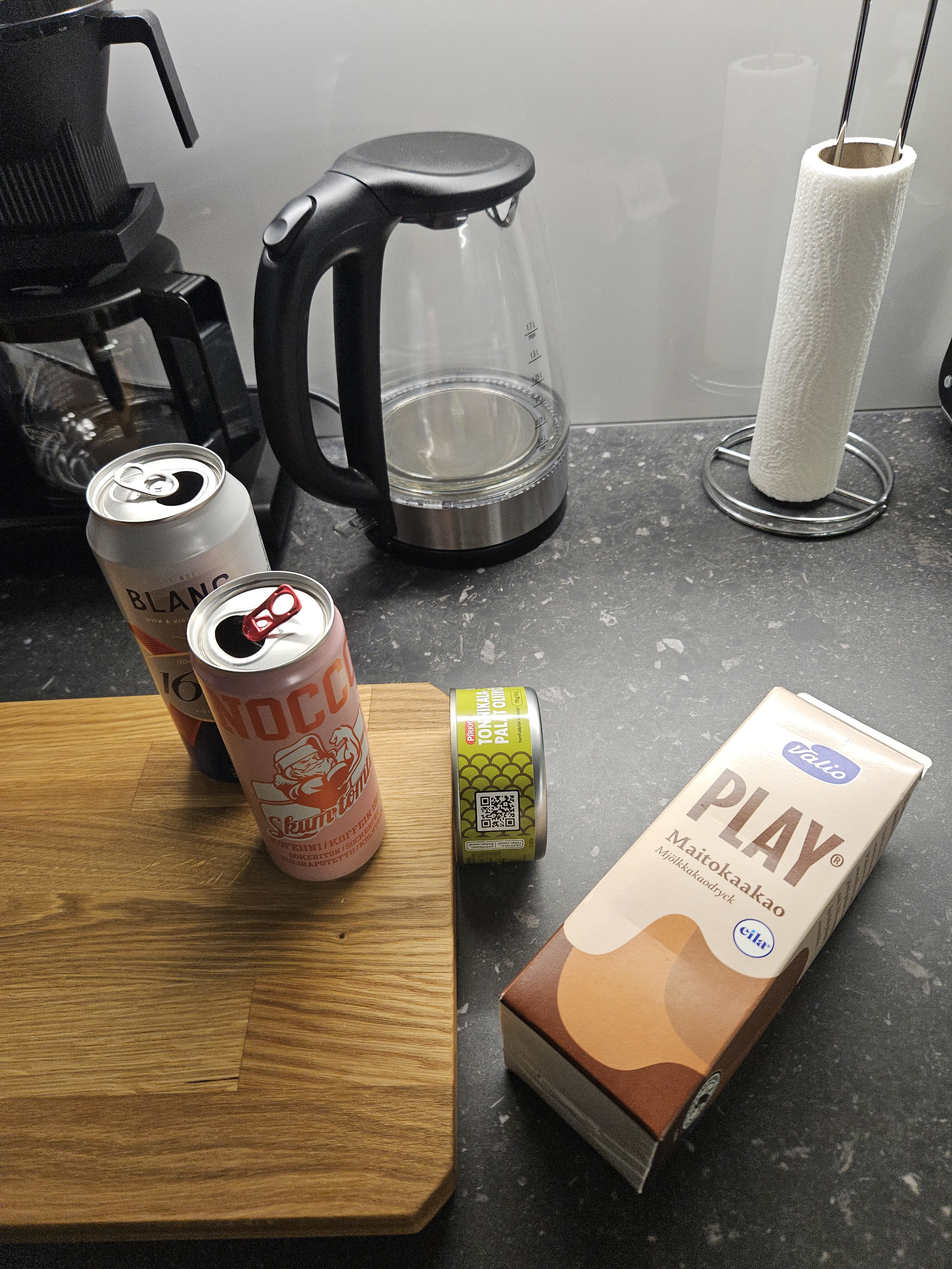Dryckeskartong: (495, 667, 941, 1198)
Konservburk: (430, 675, 550, 876)
Pantburk: (61, 431, 274, 783), (177, 567, 386, 879)
